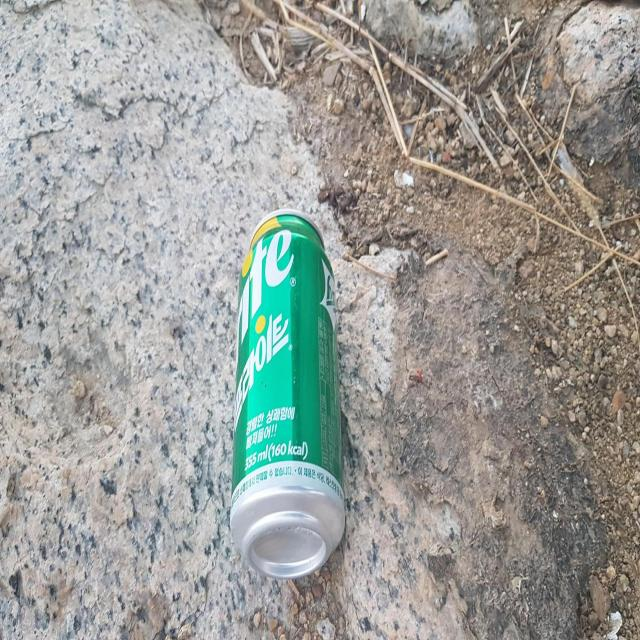can: (230, 208, 345, 579)
